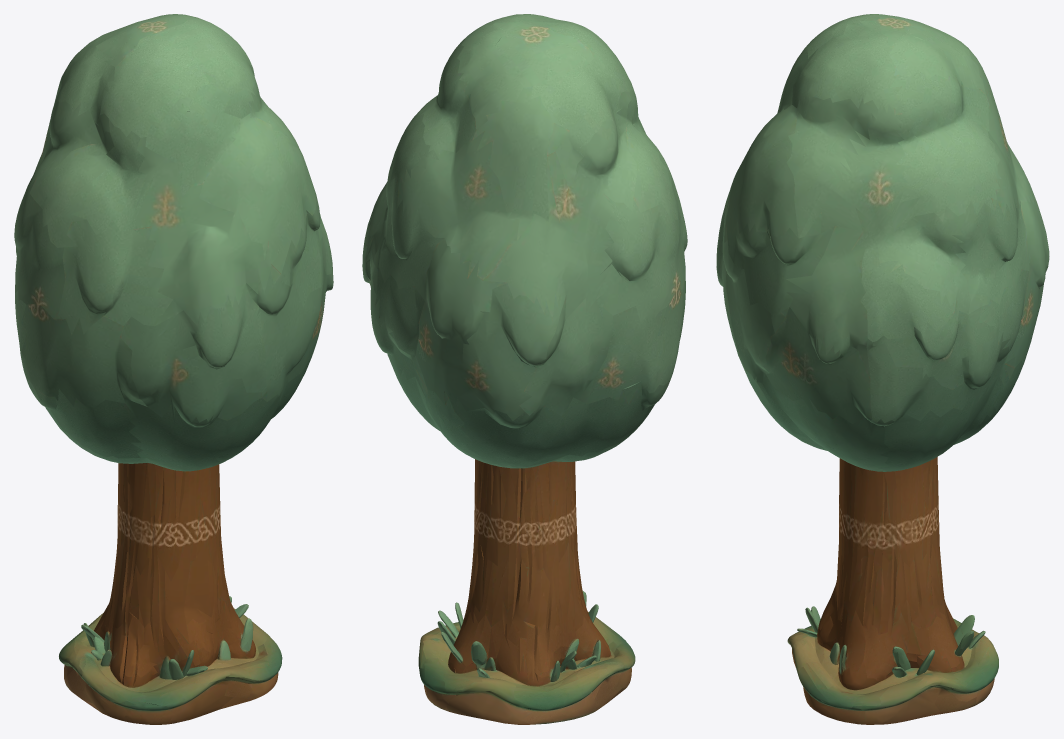
The model's file is tree-tall.glb.
The picture shows the model from 3 angles, left to right: view 1: azimuth 30°, elevation 25°; view 2: azimuth 150°, elevation 25°; view 3: azimuth 270°, elevation 25°; orthographic projection.
Visible parts, largest first — view 1: output_unwrapped; view 2: output_unwrapped; view 3: output_unwrapped.
Part boxes in pixels (x1=…): output_unwrapped: x1=14, y1=14, x2=333, y2=724; output_unwrapped: x1=362, y1=14, x2=687, y2=724; output_unwrapped: x1=716, y1=14, x2=1049, y2=724.
Size of the model in its own units: 0.9188 by 2 by 0.9247.
1 material, 1 textured.
